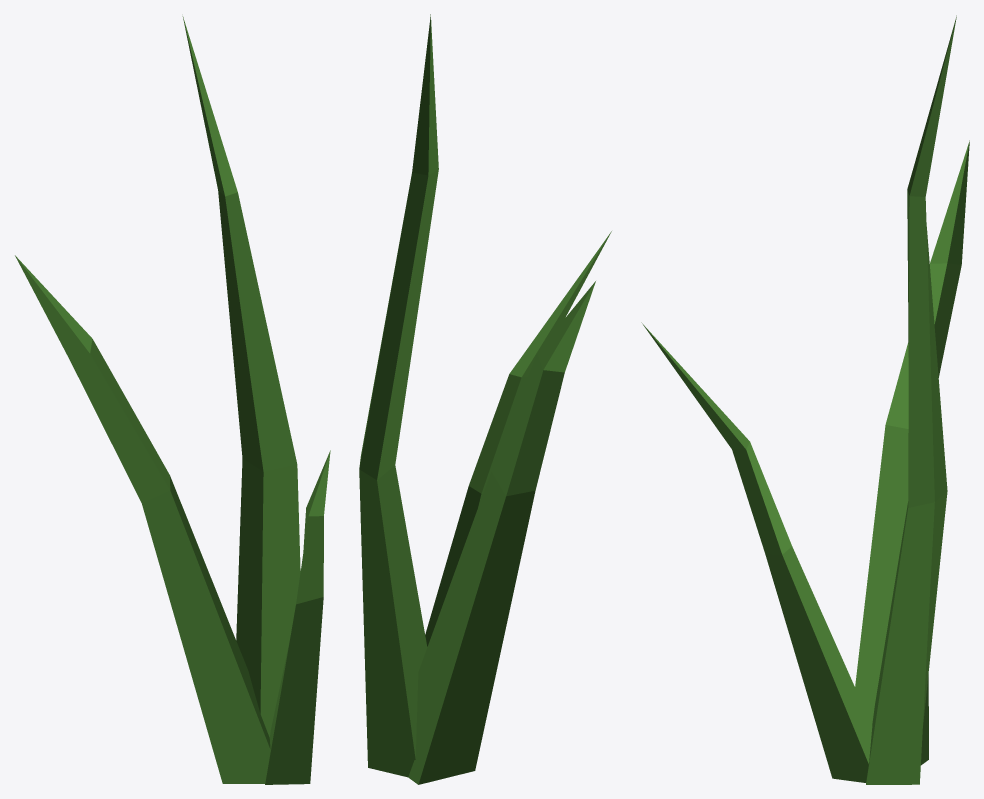
File: TallGrassFinalModel.fbx
3 renders of one model, left to right at view 1: azimuth 30°, elevation 25°; view 2: azimuth 150°, elevation 25°; view 3: azimuth 270°, elevation 25°, orthographic. The views are drawn at different scales.
Visible parts, largest first — view 1: TallGrassFinalModel; view 2: TallGrassFinalModel; view 3: TallGrassFinalModel.
Part boxes in pixels (x1,y1,x2,y2): TallGrassFinalModel: (15,16,330,784); TallGrassFinalModel: (359,14,611,784); TallGrassFinalModel: (641,15,969,784).
Size of the model in its own units: 12.77 by 35.83 by 14.56.
